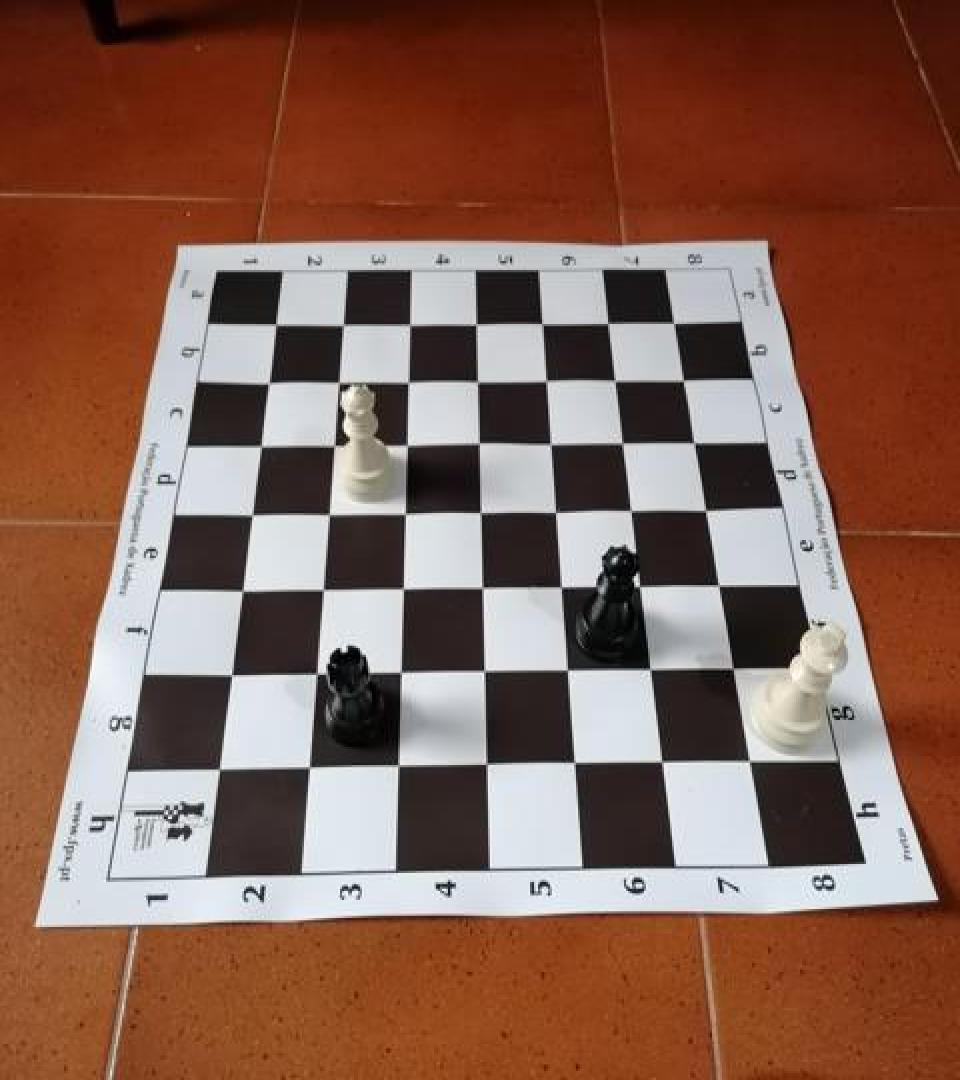xcorner: (386, 571, 418, 608), (468, 653, 500, 690), (736, 741, 768, 778), (648, 742, 680, 779), (658, 302, 690, 338), (592, 304, 624, 340), (526, 305, 558, 341), (459, 306, 491, 342), (393, 307, 425, 343), (326, 308, 358, 344), (260, 310, 292, 346), (668, 360, 700, 396), (599, 361, 631, 397), (530, 362, 562, 398), (461, 364, 493, 400), (391, 364, 423, 400), (322, 366, 354, 402), (252, 367, 284, 403), (679, 422, 711, 458), (607, 423, 639, 459), (535, 425, 567, 461), (462, 426, 494, 462), (390, 428, 422, 464), (317, 428, 349, 464), (244, 430, 276, 466), (692, 490, 724, 526), (616, 492, 648, 528), (540, 493, 572, 529), (464, 495, 496, 531), (388, 496, 420, 532), (312, 497, 344, 533), (236, 500, 268, 536), (705, 565, 737, 601), (625, 567, 657, 603), (546, 568, 578, 604), (466, 570, 498, 606), (306, 574, 338, 610), (226, 575, 258, 611), (720, 648, 752, 684), (636, 650, 668, 686), (552, 652, 584, 688), (384, 656, 416, 692), (300, 657, 332, 693), (215, 659, 247, 695), (559, 745, 591, 781), (470, 747, 502, 783), (382, 748, 414, 784), (292, 750, 324, 786), (203, 752, 235, 788)
